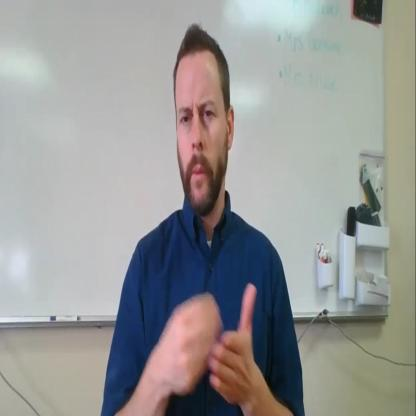Expensive: (152, 268, 261, 412)
